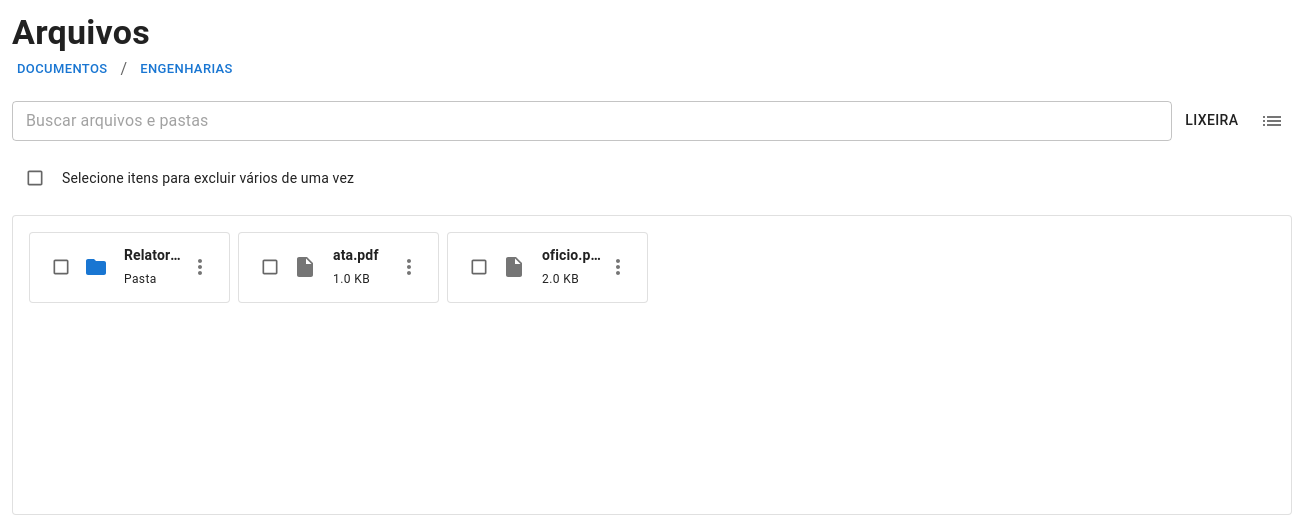
Scenario: FilesPage exclusao em lote › descarta a selecao ao navegar, mesmo se a pasta destino repetir o item
Click the checkbox named "Selecionar ata.pdf" at [270, 267], box [260,257,280,277]
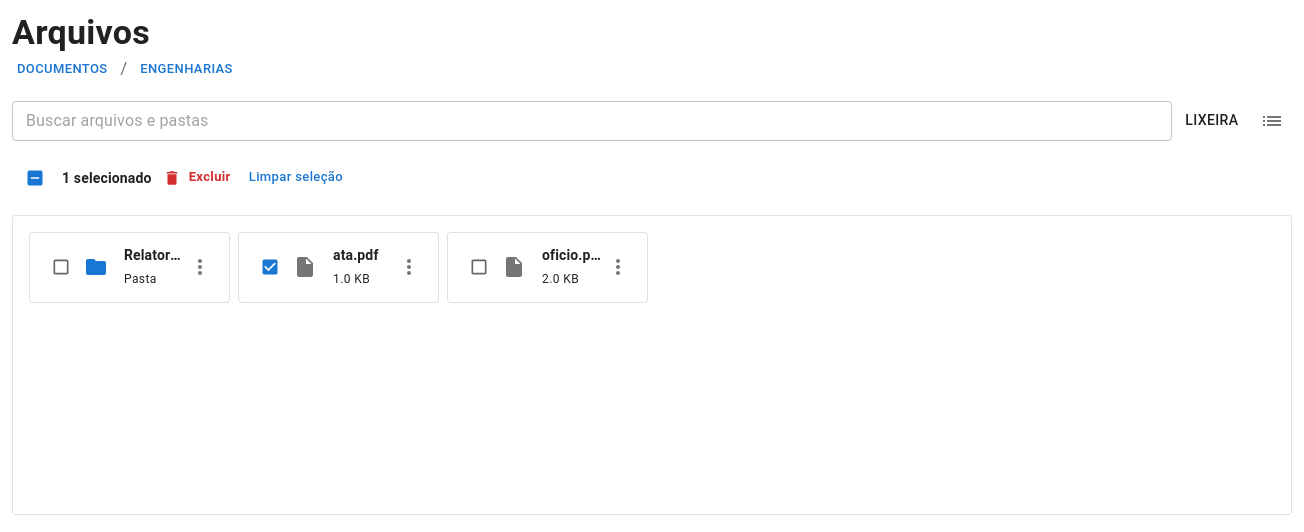
Now the text "1 selecionado" is shown, box [62,168,152,188]
Double-click the text "Relatorios" at [154, 255], box [124,245,183,266]
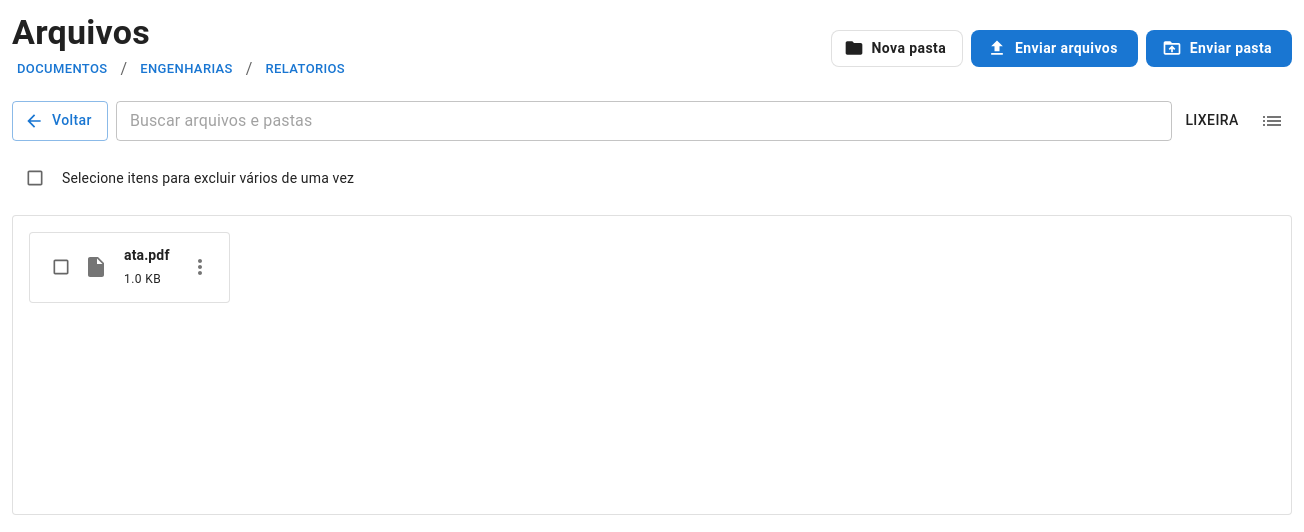
Now the text "1 selecionado" is gone
